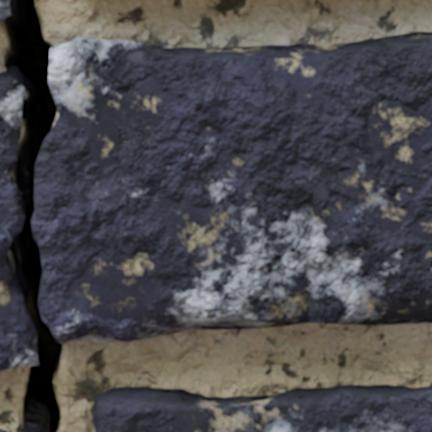brick: (94, 385, 431, 431), (0, 0, 8, 19)
broken_brick: (32, 31, 431, 343), (0, 71, 23, 281), (0, 286, 36, 371)
crack: (0, 0, 65, 431)
